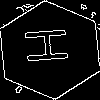H: (25, 25, 79, 65)
